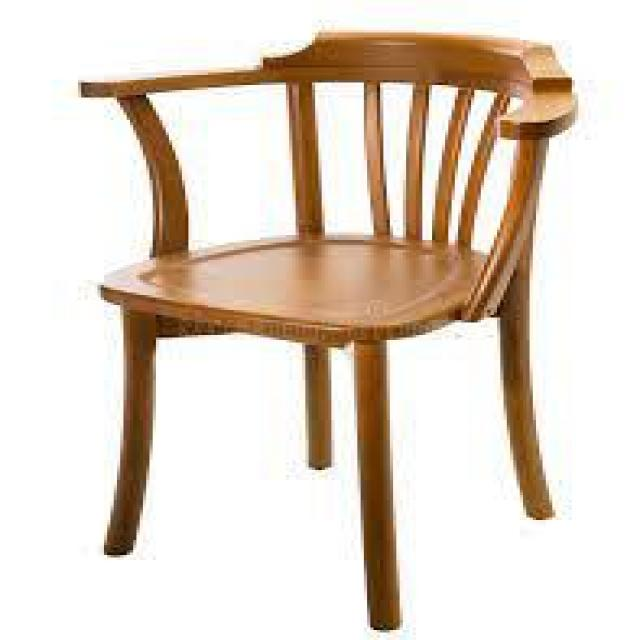chair: (52, 21, 594, 596)
